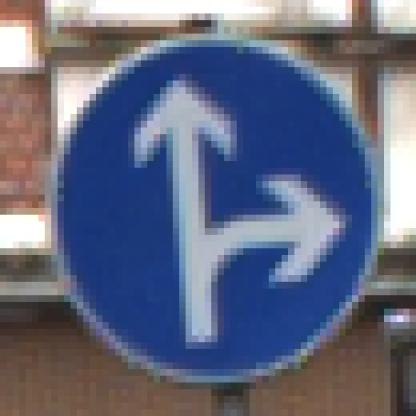Straight or Right: (40, 35, 379, 377)
